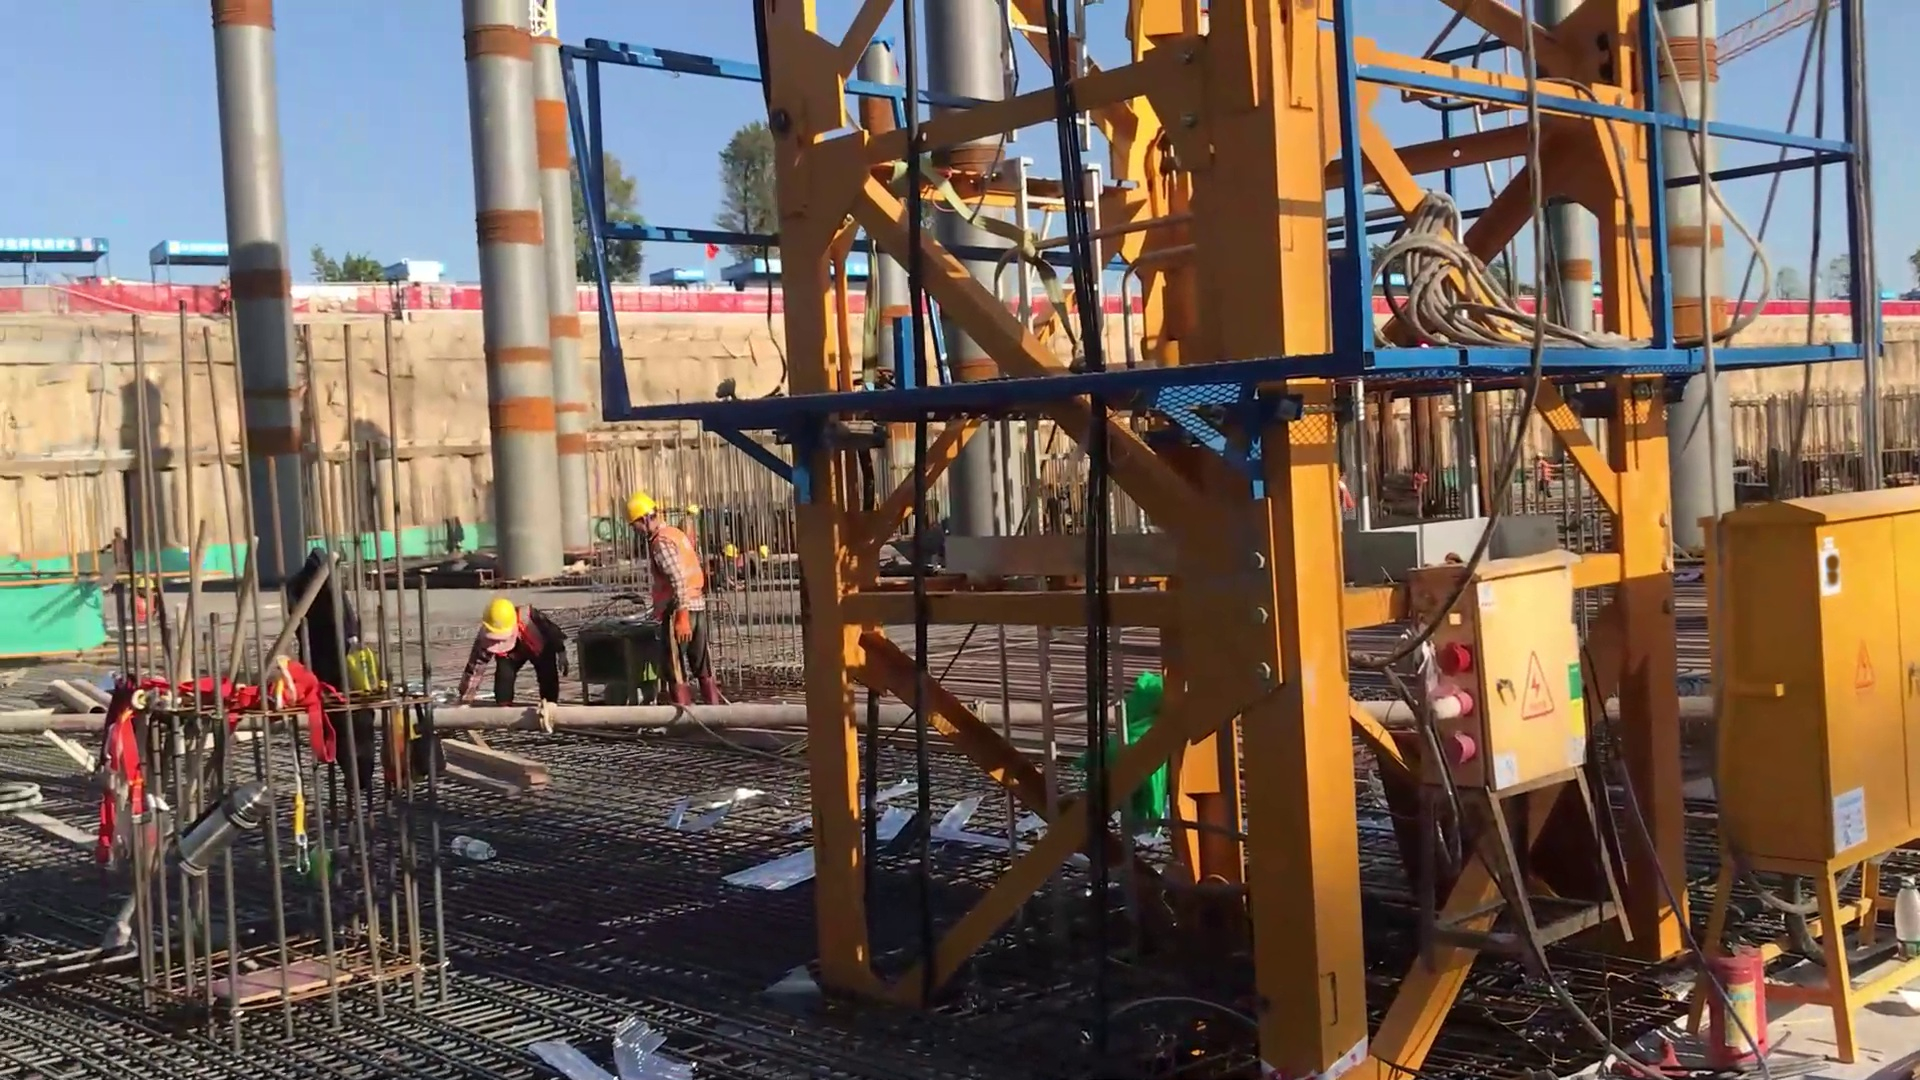ebox: (1716, 464, 1920, 913), (1411, 525, 1615, 807)
fence: (72, 282, 219, 314), (613, 295, 776, 319), (1772, 300, 1857, 319), (1883, 296, 1918, 316)
helmet: (478, 594, 522, 645), (617, 489, 660, 527)
person: (622, 490, 728, 705), (447, 597, 578, 700)
slogan: (148, 239, 226, 262), (1, 237, 108, 255)
vest: (646, 527, 708, 615), (516, 604, 546, 654)
